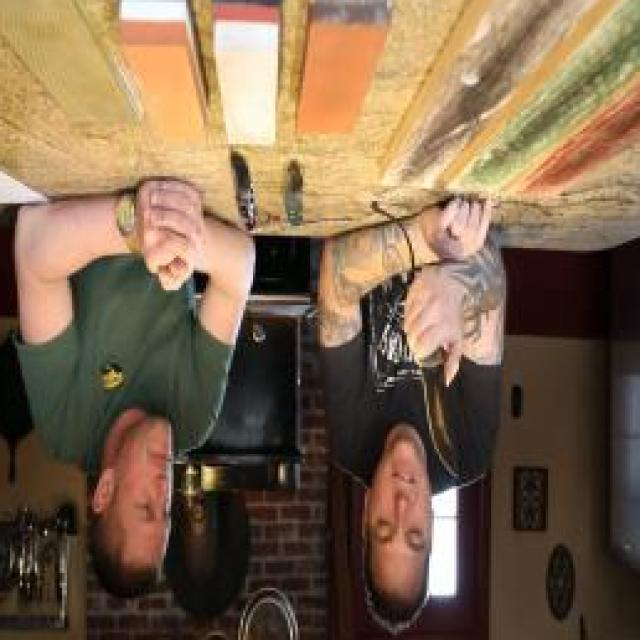knife: (394, 317, 466, 488)
